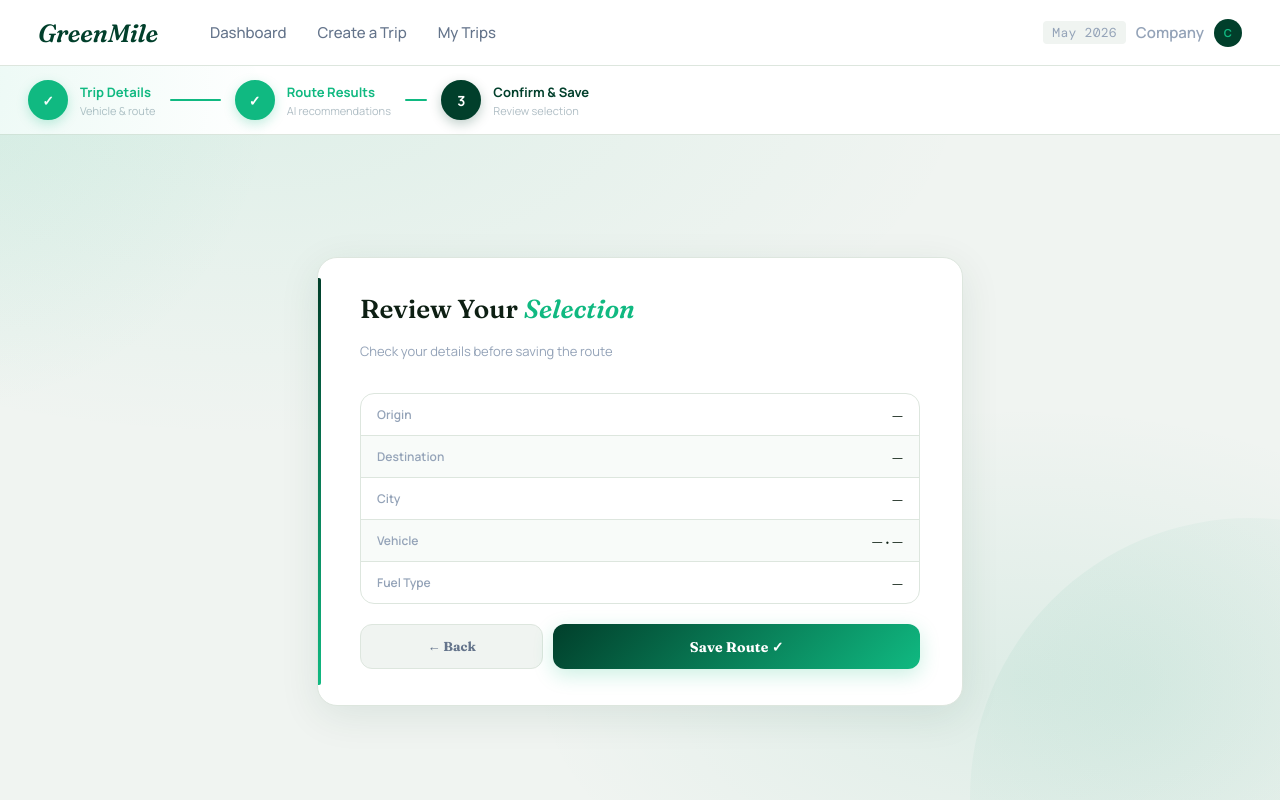
ConfirmScreen — Save: Auth & Validation › shows missing trip data error when both route and meta are null
Step 1. Click the button "Save Route ✓" → [737, 647], box [553,624,920,669]
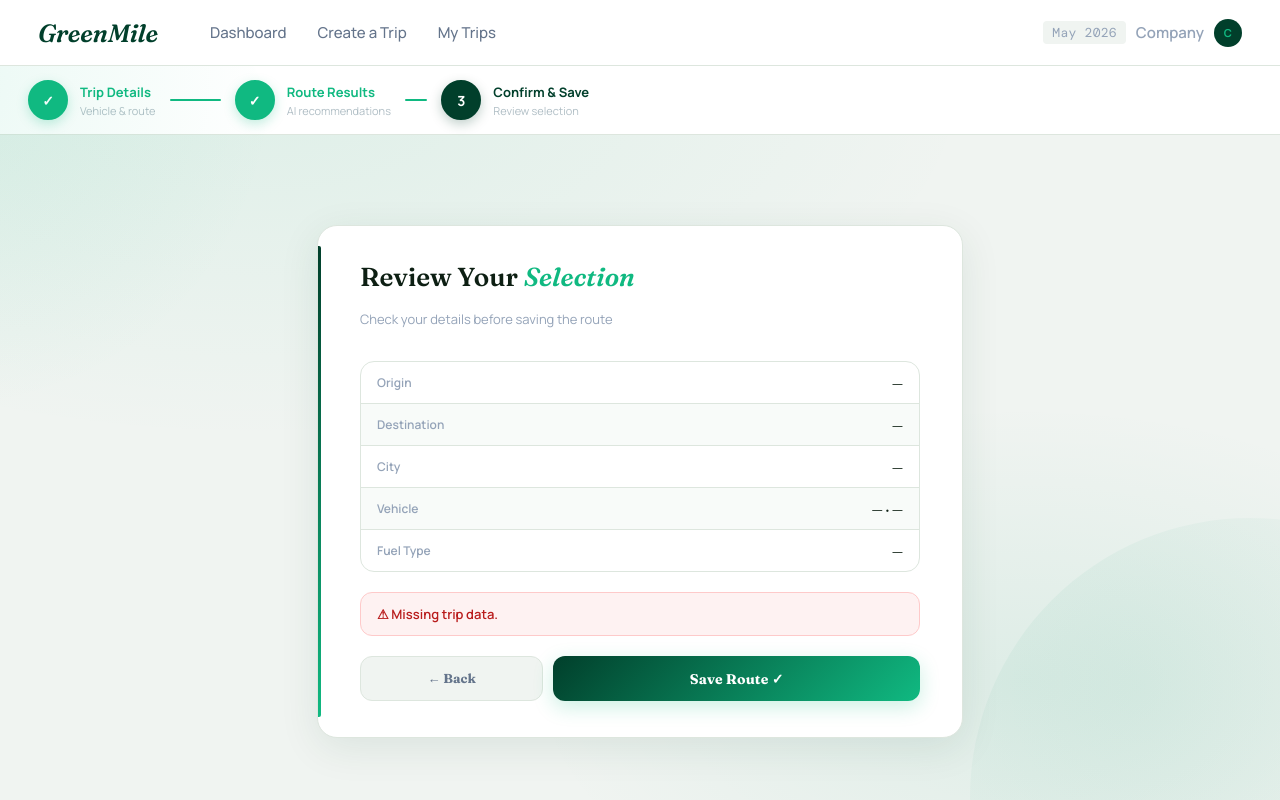
expect the text "⚠ Missing trip data." is shown: met, box [360,592,920,636]
